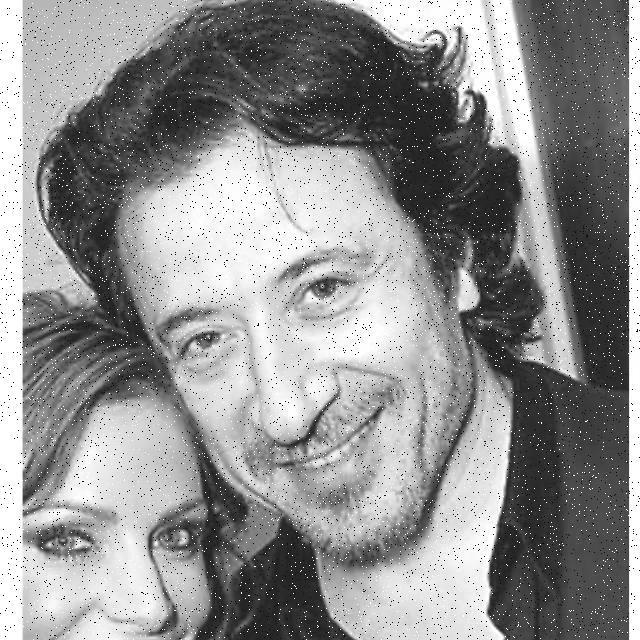real: (109, 113, 484, 568), (21, 392, 225, 640)
